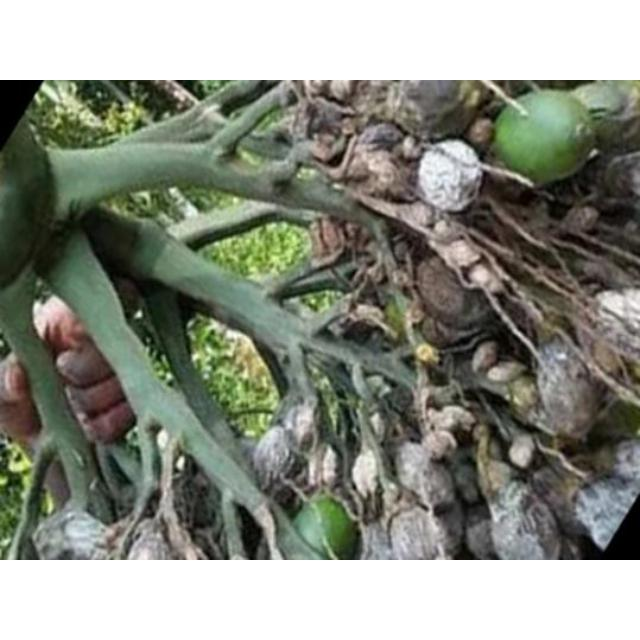damaged: (494, 89, 594, 183), (528, 338, 604, 438), (570, 448, 640, 550), (216, 326, 292, 414), (474, 342, 542, 428), (338, 123, 414, 197), (250, 416, 312, 498), (417, 140, 481, 210), (35, 292, 101, 358), (292, 494, 358, 560), (30, 508, 110, 560), (536, 466, 588, 538), (119, 184, 205, 226), (415, 260, 475, 320), (272, 264, 360, 304), (531, 431, 591, 485), (423, 306, 493, 352), (29, 216, 72, 282), (102, 437, 146, 501), (64, 374, 130, 414), (596, 148, 640, 208), (474, 428, 510, 500), (56, 342, 114, 386), (301, 97, 349, 149), (494, 292, 542, 344), (309, 218, 355, 270), (133, 80, 199, 116), (77, 403, 135, 443), (228, 502, 268, 558), (376, 383, 419, 433), (592, 398, 640, 442), (571, 82, 629, 118), (228, 432, 272, 478), (432, 501, 468, 555), (138, 321, 174, 375), (485, 170, 535, 207), (0, 396, 38, 444), (124, 522, 172, 560), (454, 80, 494, 124), (464, 512, 500, 560), (360, 518, 400, 560), (584, 339, 622, 383), (74, 80, 122, 114), (290, 402, 320, 453), (42, 460, 72, 510), (352, 449, 382, 499), (337, 314, 383, 346), (47, 100, 87, 136), (286, 136, 328, 170), (202, 298, 244, 332), (86, 474, 114, 524), (380, 297, 410, 343), (453, 457, 483, 503), (444, 238, 484, 272), (230, 336, 264, 376), (610, 442, 640, 486), (561, 203, 599, 237), (110, 276, 142, 316), (2, 358, 30, 402), (316, 446, 342, 492), (422, 428, 460, 459), (319, 393, 343, 441), (111, 100, 147, 132), (399, 200, 437, 230), (507, 434, 537, 470), (578, 258, 614, 288), (532, 314, 564, 346), (190, 528, 223, 558), (437, 405, 475, 431), (466, 117, 496, 149), (484, 360, 524, 384), (420, 316, 450, 348), (1, 461, 26, 499), (471, 341, 499, 373), (466, 262, 498, 290), (280, 297, 310, 325), (256, 103, 286, 131), (38, 81, 70, 107), (237, 144, 267, 168), (429, 221, 458, 245), (483, 436, 505, 466), (488, 134, 508, 166), (328, 80, 356, 102), (368, 410, 388, 440), (405, 302, 427, 328), (401, 134, 421, 160), (365, 375, 387, 397), (472, 422, 492, 446), (286, 548, 318, 560), (156, 428, 170, 454), (8, 448, 26, 468), (40, 492, 54, 516), (134, 191, 150, 209), (174, 455, 186, 473), (0, 474, 10, 486)
